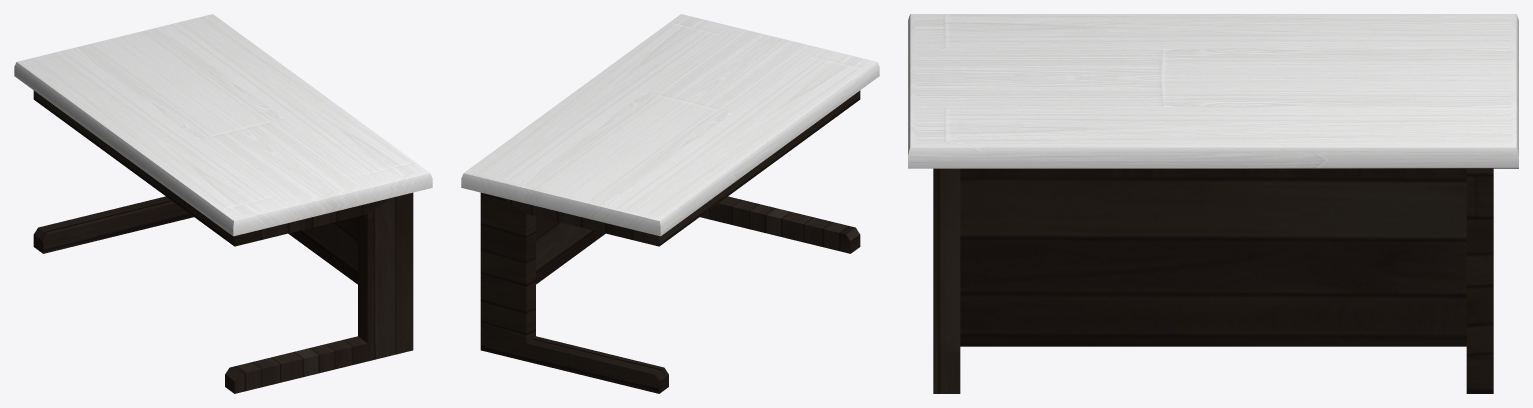
Rendered from OneRoom_DesktopTable.fbx.
3 renders of one model, left to right at view 1: azimuth 30°, elevation 25°; view 2: azimuth 150°, elevation 25°; view 3: azimuth 270°, elevation 25°, orthographic. The views are drawn at different scales.
Visible parts, largest first — view 1: Box204; view 2: Box204; view 3: Box204.
Part boxes in pixels (<box>): Box204: <box>14,14,432,393</box>; Box204: <box>461,14,879,393</box>; Box204: <box>908,14,1518,393</box>.
Size of the model in its own units: 0.6631 by 0.581 by 1.26.
1 material, 1 textured.
